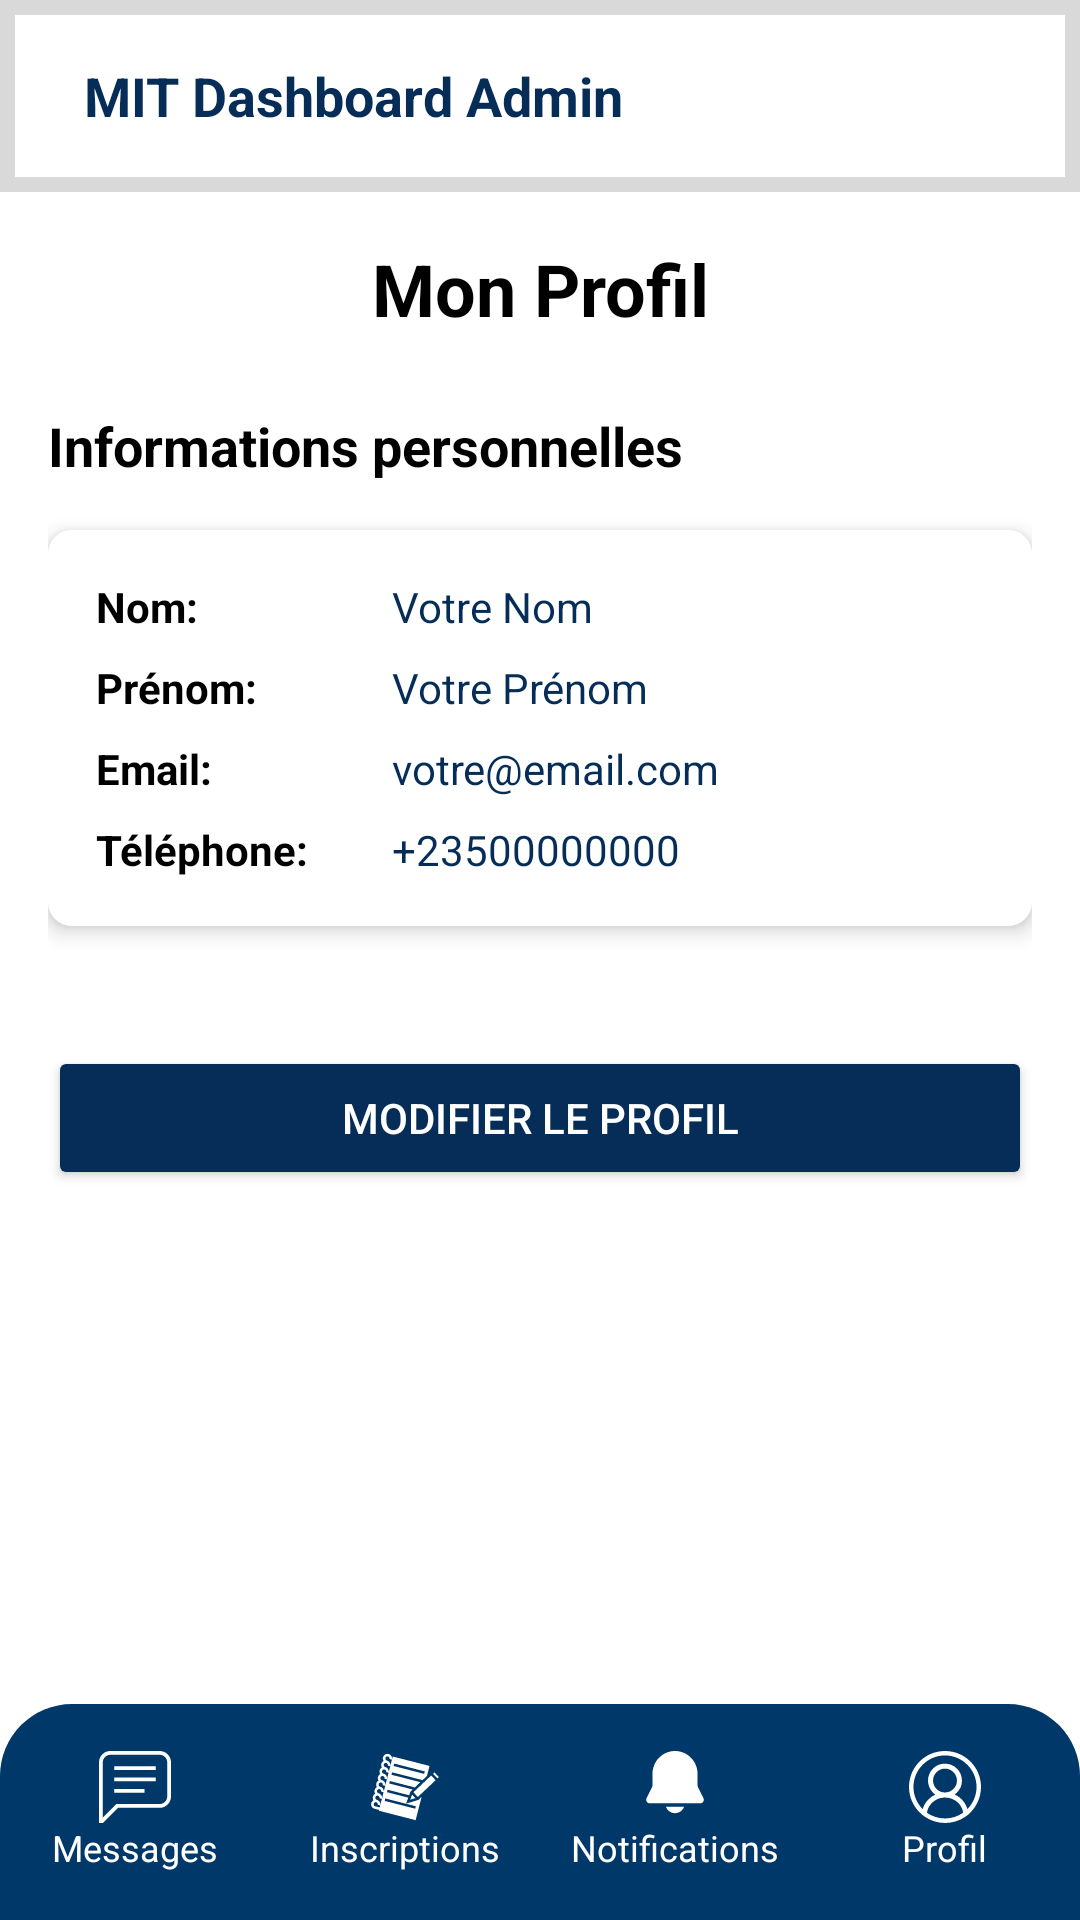

Named icons in this screenshot (1080x1920) and their centers, (x,y):
Notes: (405,1786)
